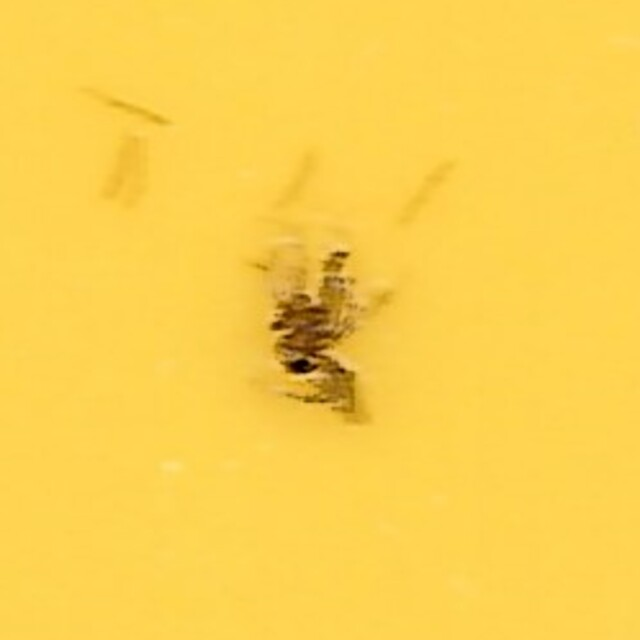Nematocera: (257, 212, 383, 428)
